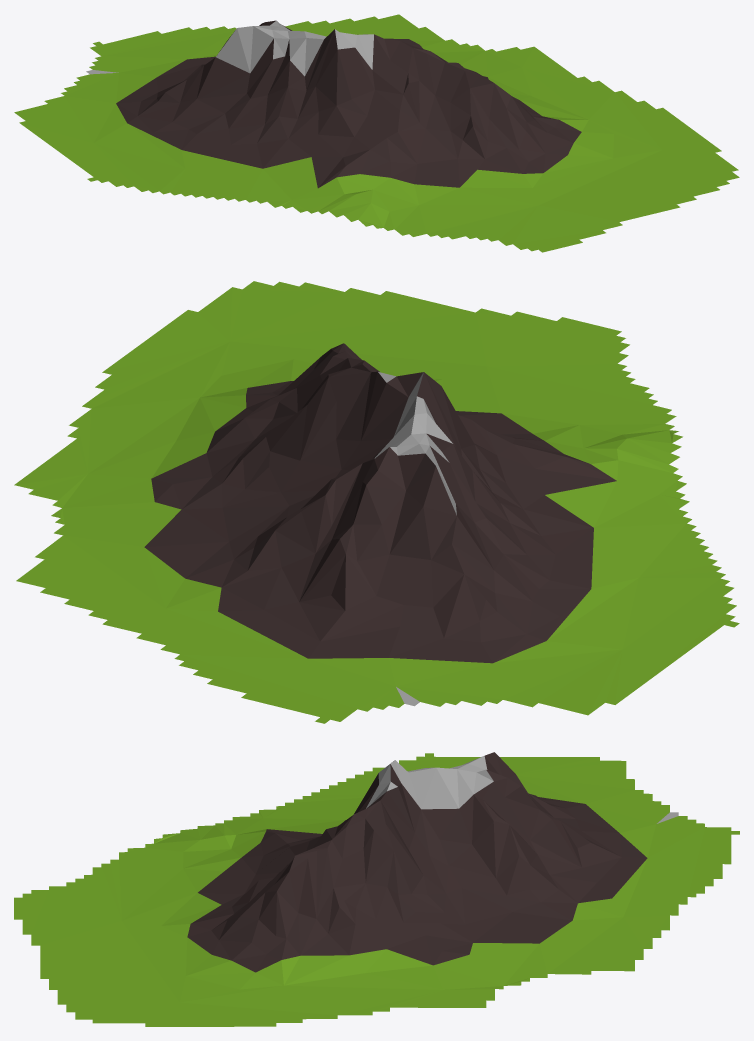
The model's file is Mount.glb.
The picture shows the model from 3 angles, top to bottom: view 1: azimuth 30°, elevation 25°; view 2: azimuth 150°, elevation 25°; view 3: azimuth 270°, elevation 25°; orthographic projection. The views are drawn at different scales.
Visible parts, largest first — view 1: Plane_Plane.001 2, Plane_Plane.001; view 2: Plane_Plane.001 2, Plane_Plane.001; view 3: Plane_Plane.001 2, Plane_Plane.001.
Part boxes in pixels (box(x1,y1,x2,y2)): Plane_Plane.001 2: box(14, 14, 739, 252); Plane_Plane.001: box(116, 20, 581, 188); Plane_Plane.001 2: box(14, 281, 739, 723); Plane_Plane.001: box(144, 343, 616, 663); Plane_Plane.001 2: box(14, 753, 739, 1026); Plane_Plane.001: box(187, 752, 647, 972).
Bounding box in the file's own units: 0.2964 × 0.0598 × 0.3324.
